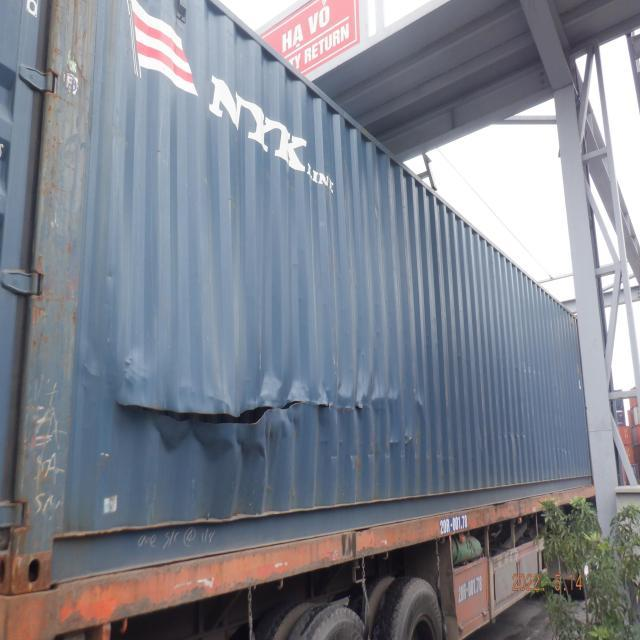hole: (120, 397, 367, 432)
